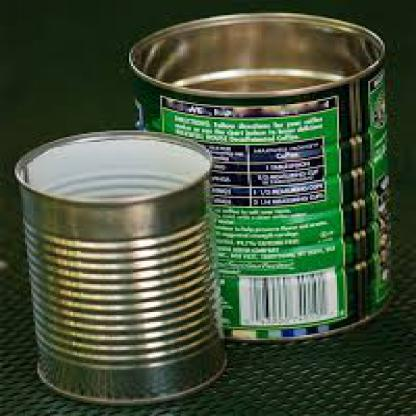METAL: (123, 10, 389, 342), (15, 129, 226, 404)
